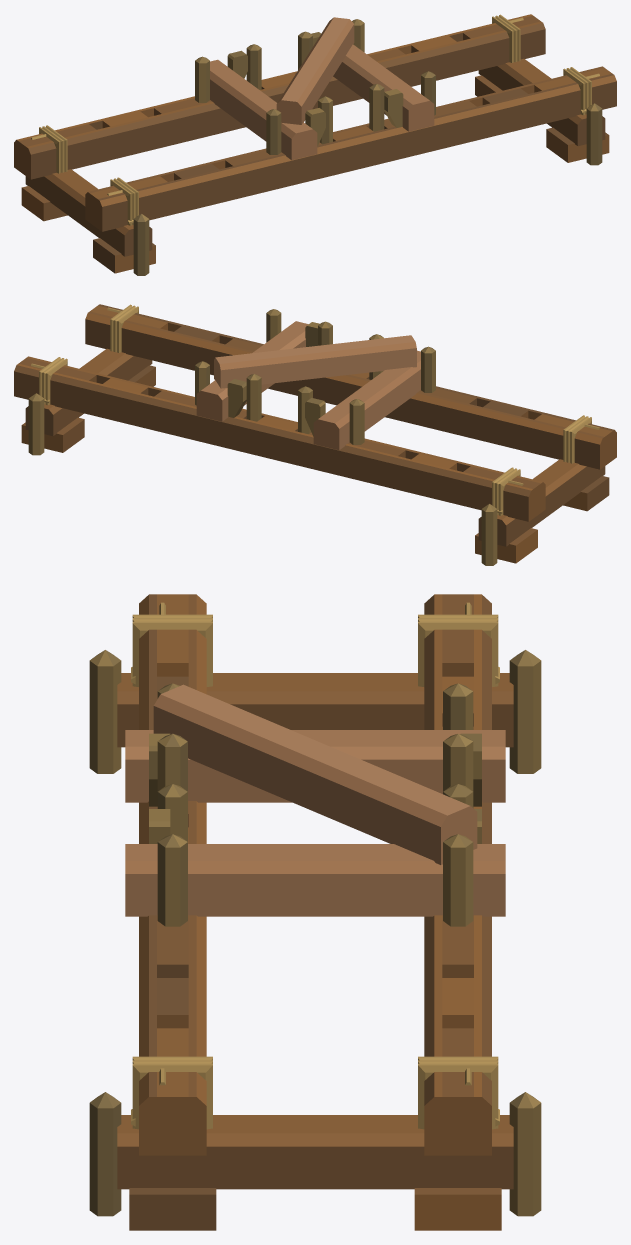
The model's file is beam-lashing-assembly-jig-813178.glb.
3 renders of one model, top to bottom at view 1: azimuth 30°, elevation 25°; view 2: azimuth 150°, elevation 25°; view 3: azimuth 270°, elevation 25°, orthographic. The views are drawn at different scales.
Parts seen in each view (by area): view 1: jig, workpiece-frame, clamp-1-body, clamp-2-body; view 2: jig, workpiece-frame, clamp-2-body, clamp-1-body; view 3: jig, workpiece-frame, clamp-1-body, clamp-2-body.
Boxes of the visible parts, x1=… form: jig: x1=14, y1=14, x2=616, y2=275; workpiece-frame: x1=210, y1=17, x2=434, y2=160; clamp-1-body: x1=227, y1=44, x2=332, y2=146; clamp-2-body: x1=298, y1=31, x2=403, y2=131; jig: x1=14, y1=304, x2=616, y2=565; workpiece-frame: x1=196, y1=321, x2=420, y2=450; clamp-2-body: x1=227, y1=321, x2=332, y2=421; clamp-1-body: x1=298, y1=334, x2=383, y2=436; jig: x1=89, y1=594, x2=541, y2=1230; workpiece-frame: x1=125, y1=684, x2=505, y2=916; clamp-1-body: x1=149, y1=733, x2=481, y2=806; clamp-2-body: x1=149, y1=784, x2=481, y2=843.
Bounding box in the file's own units: 3 × 0.666 × 1.14.
